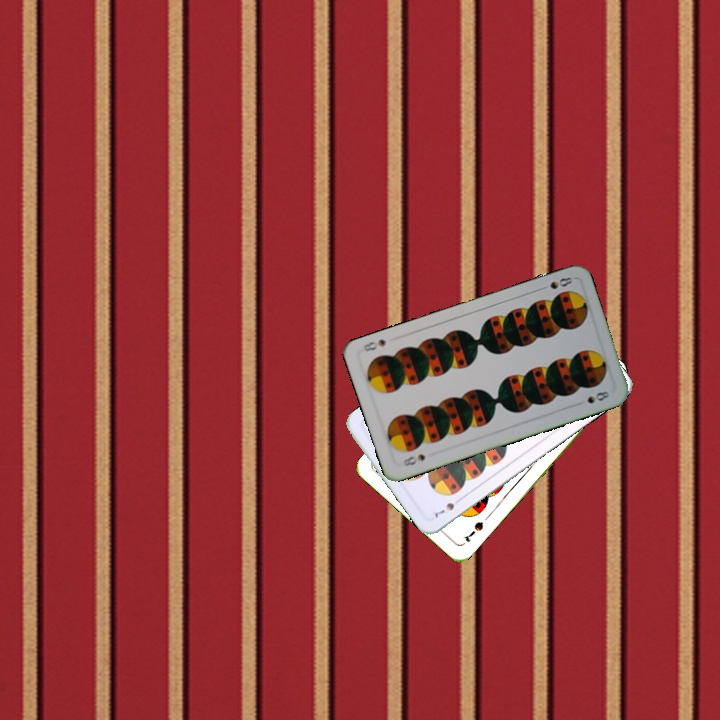S7: (430, 493, 465, 520), (459, 517, 486, 544)
S8: (535, 273, 575, 293), (399, 450, 428, 469)
